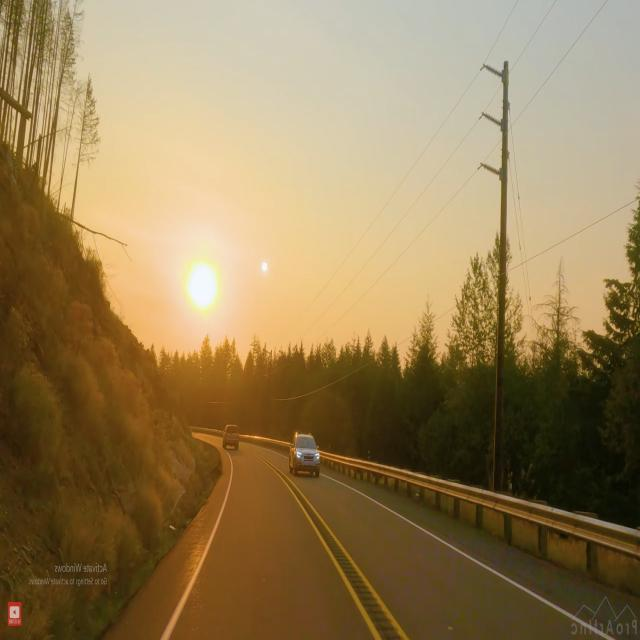sun: (175, 246, 229, 323)
